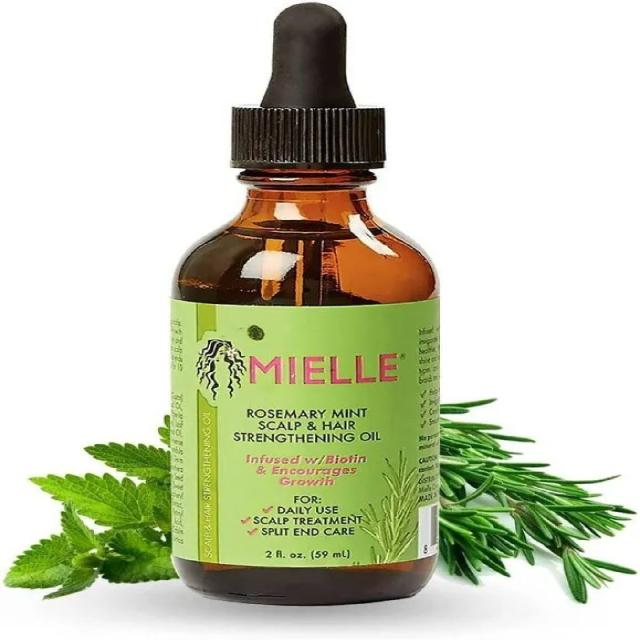food-supliment: (174, 300, 448, 570)
